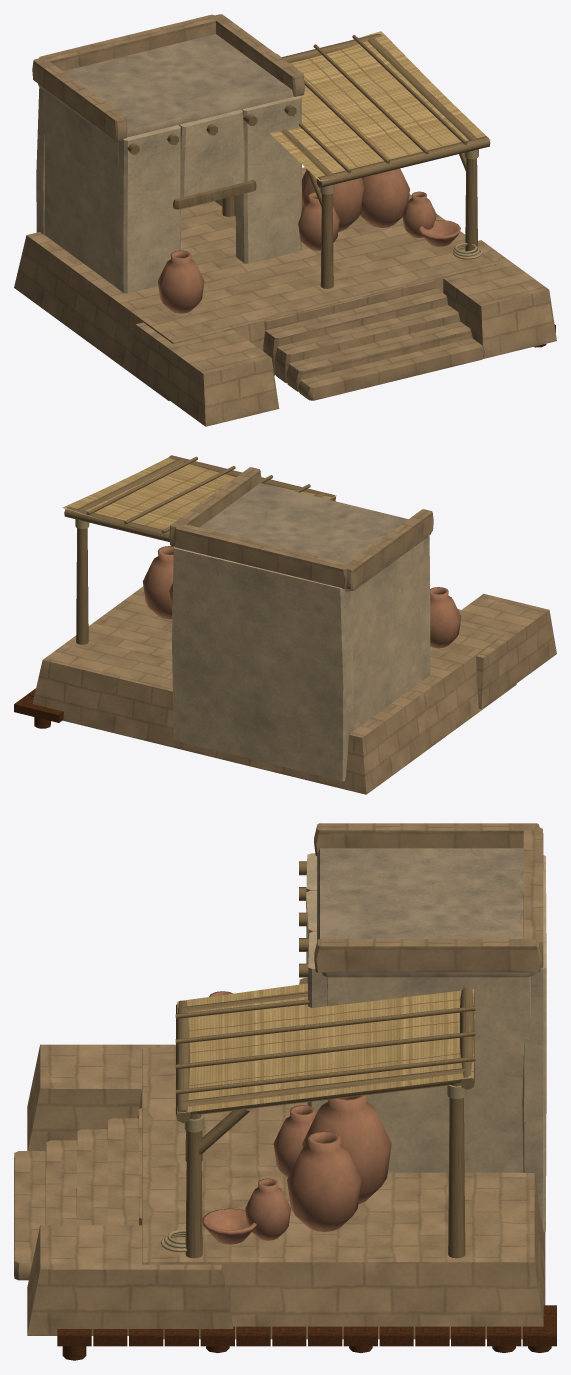
File: waterpoint.glb
3 views of the same model, one above another, from view 1: azimuth 30°, elevation 25°; view 2: azimuth 150°, elevation 25°; view 3: azimuth 270°, elevation 25° (orthographic). The views are drawn at different scales.
Visible parts, largest first — view 1: original-waterpoint-game-raw-brick-facing, original-waterpoint-warm-clay-plaster, original-waterpoint-laid-reed-thatch, original-waterpoint-alluvial-earth, original-waterpoint-worn-timber, original-waterpoint-fired-pottery, original-waterpoint-reed-mat; view 2: original-waterpoint-warm-clay-plaster, original-waterpoint-game-raw-brick-facing, original-waterpoint-alluvial-earth, original-waterpoint-laid-reed-thatch, original-waterpoint-worn-timber, original-waterpoint-fired-pottery, game-shore-timber-foundation; view 3: original-waterpoint-game-raw-brick-facing, original-waterpoint-warm-clay-plaster, original-waterpoint-laid-reed-thatch, original-waterpoint-alluvial-earth, original-waterpoint-worn-timber, original-waterpoint-fired-pottery, game-shore-timber-foundation, original-waterpoint-reed-mat.
Boxes of the visible parts, <box> form: original-waterpoint-game-raw-brick-facing: <box>14,14,556,426</box>; original-waterpoint-warm-clay-plaster: <box>36,87,301,293</box>; original-waterpoint-laid-reed-thatch: <box>270,31,490,181</box>; original-waterpoint-alluvial-earth: <box>38,34,293,142</box>; original-waterpoint-worn-timber: <box>127,34,490,288</box>; original-waterpoint-fired-pottery: <box>157,168,460,313</box>; original-waterpoint-reed-mat: <box>320,149,482,259</box>; original-waterpoint-warm-clay-plaster: <box>172,533,430,781</box>; original-waterpoint-game-raw-brick-facing: <box>32,467,556,794</box>; original-waterpoint-alluvial-earth: <box>199,483,428,591</box>; original-waterpoint-laid-reed-thatch: <box>62,457,336,536</box>; original-waterpoint-worn-timber: <box>64,455,431,644</box>; original-waterpoint-fired-pottery: <box>142,546,461,648</box>; game-shore-timber-foundation: <box>14,688,63,728</box>; original-waterpoint-game-raw-brick-facing: <box>14,823,545,1339</box>; original-waterpoint-warm-clay-plaster: <box>306,853,546,1232</box>; original-waterpoint-laid-reed-thatch: <box>177,983,474,1113</box>; original-waterpoint-alluvial-earth: <box>317,848,534,977</box>; original-waterpoint-worn-timber: <box>175,861,475,1258</box>; original-waterpoint-fired-pottery: <box>202,991,391,1244</box>; game-shore-timber-foundation: <box>57,1305,556,1360</box>; original-waterpoint-reed-mat: <box>160,1085,466,1252</box>.
Bounding box in the file's own units: 5.16 × 3.23 × 5.03.
9 materials, 8 textured.
